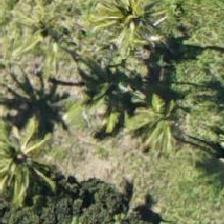coconut_tree: (119, 74, 209, 164), (7, 0, 97, 75), (0, 116, 61, 206), (80, 0, 170, 61)
